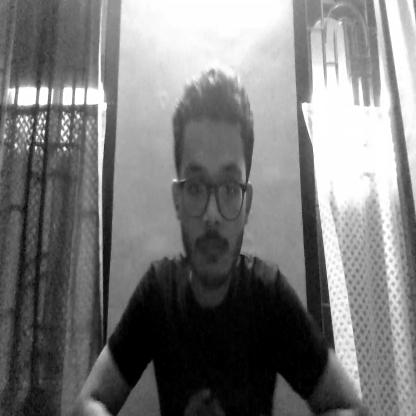Normal: (171, 75, 258, 286)
